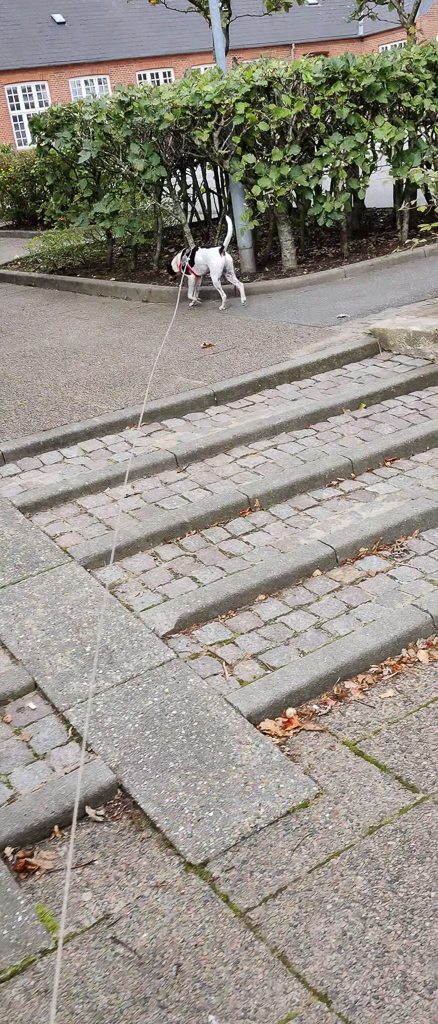Dog: (160, 210, 254, 318)
